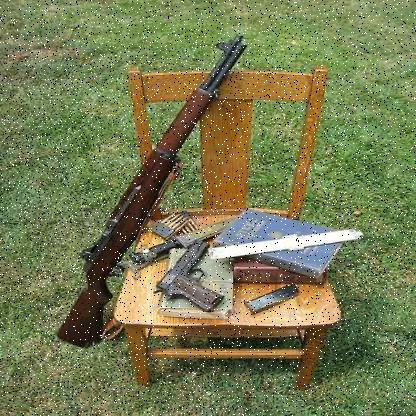rifle: (54, 31, 251, 352)
